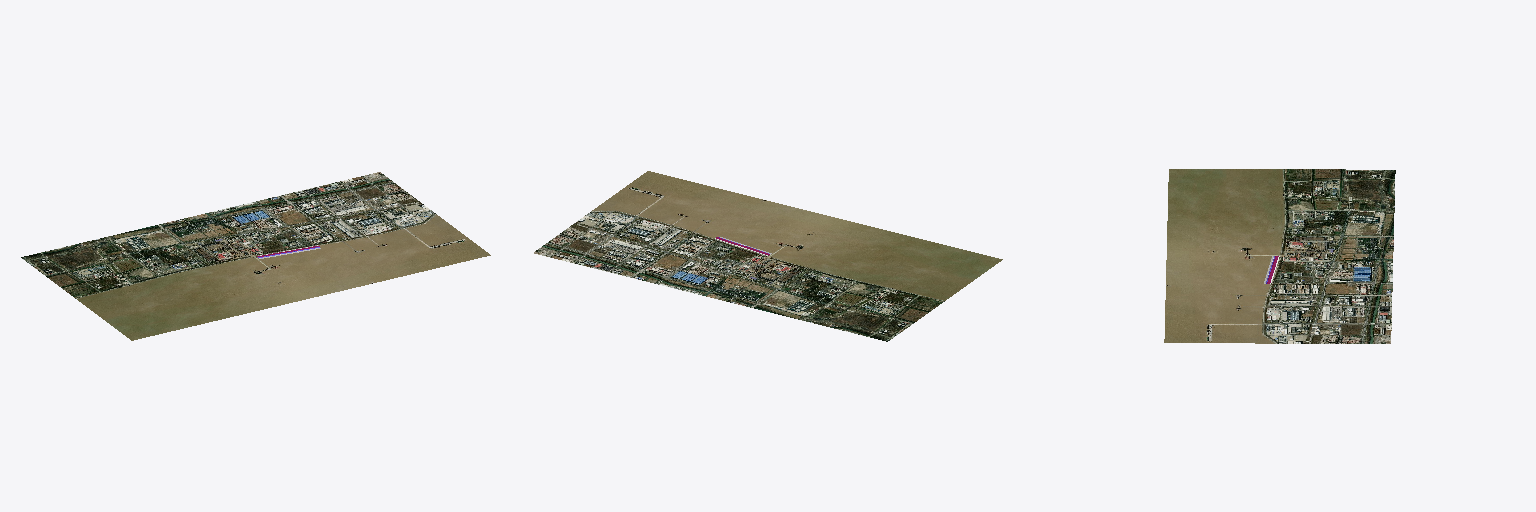
3 renders of one model, left to right at view 1: azimuth 30°, elevation 25°; view 2: azimuth 150°, elevation 25°; view 3: azimuth 270°, elevation 25°, orthographic.
Parts seen in each view (by area): view 1: Mesh1 Location_Snapshot Model; view 2: Mesh1 Location_Snapshot Model; view 3: Mesh1 Location_Snapshot Model.
Part boxes in pixels (x1,y1,x2,y2): Mesh1 Location_Snapshot Model: (21, 172, 490, 340); Mesh1 Location_Snapshot Model: (534, 171, 1002, 341); Mesh1 Location_Snapshot Model: (1164, 169, 1395, 343).
Bounding box in the file's own units: 7744340 × 15804 × 4313340.
Materials: 5 (2 with a texture image).